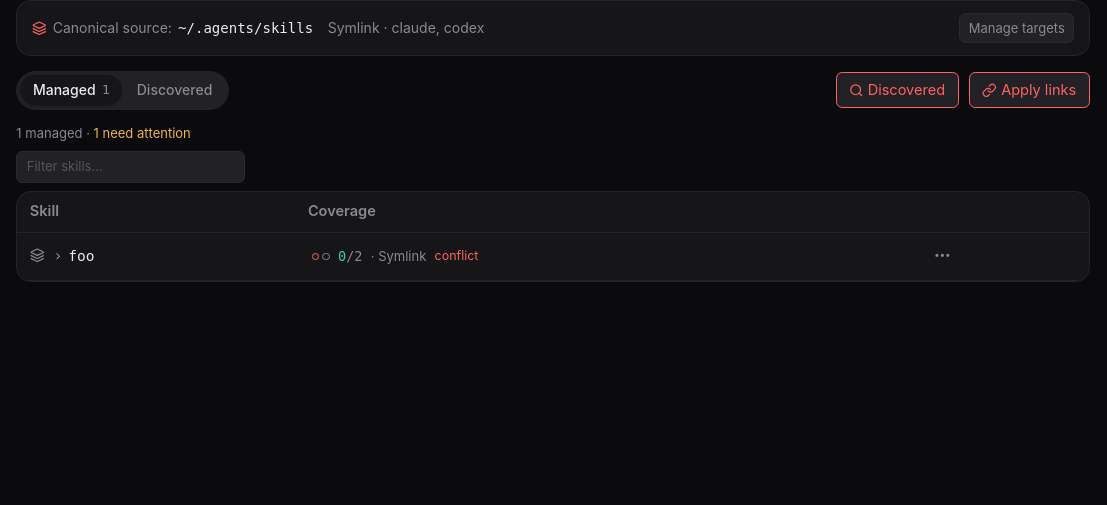
Test: Skills view › discovered tab groups candidates by location and shows linked-group hint only for all-linked groups
Expected: the text "foo" is shown, [53, 244, 95, 266]
switch to the Discovered tab — use aria-pressed to pick the tab pill, not the scan button
Click the 1st button "Discovered".
click(175, 90)  # box [124, 75, 225, 106]
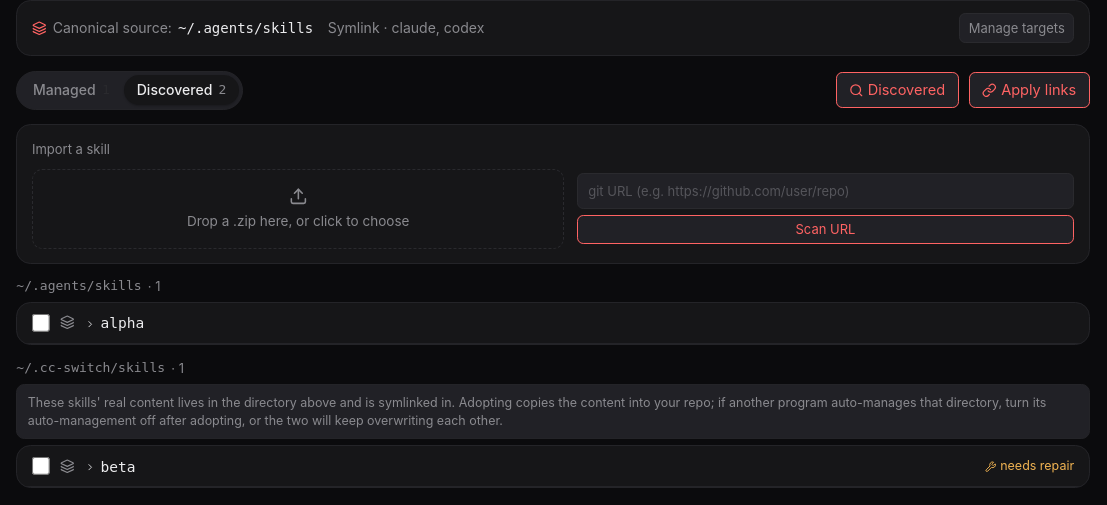
Now the text "~/.cc-switch/skills" is shown, box [16, 359, 165, 378]
Now the text "These skills' real content lives in the directory above" is shown, box [28, 395, 1046, 428]
Now the text "These skills' real content lives in the directory above" is shown once, box [16, 384, 1090, 439]
